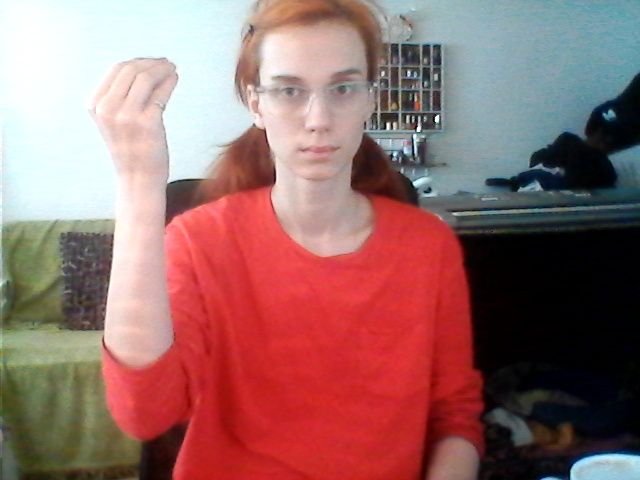domov: (74, 47, 275, 179)
